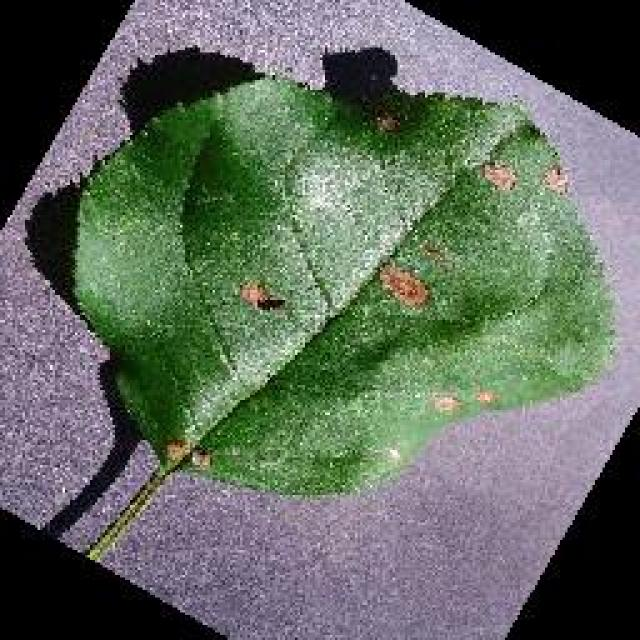apple healthy: (32, 42, 618, 500)
